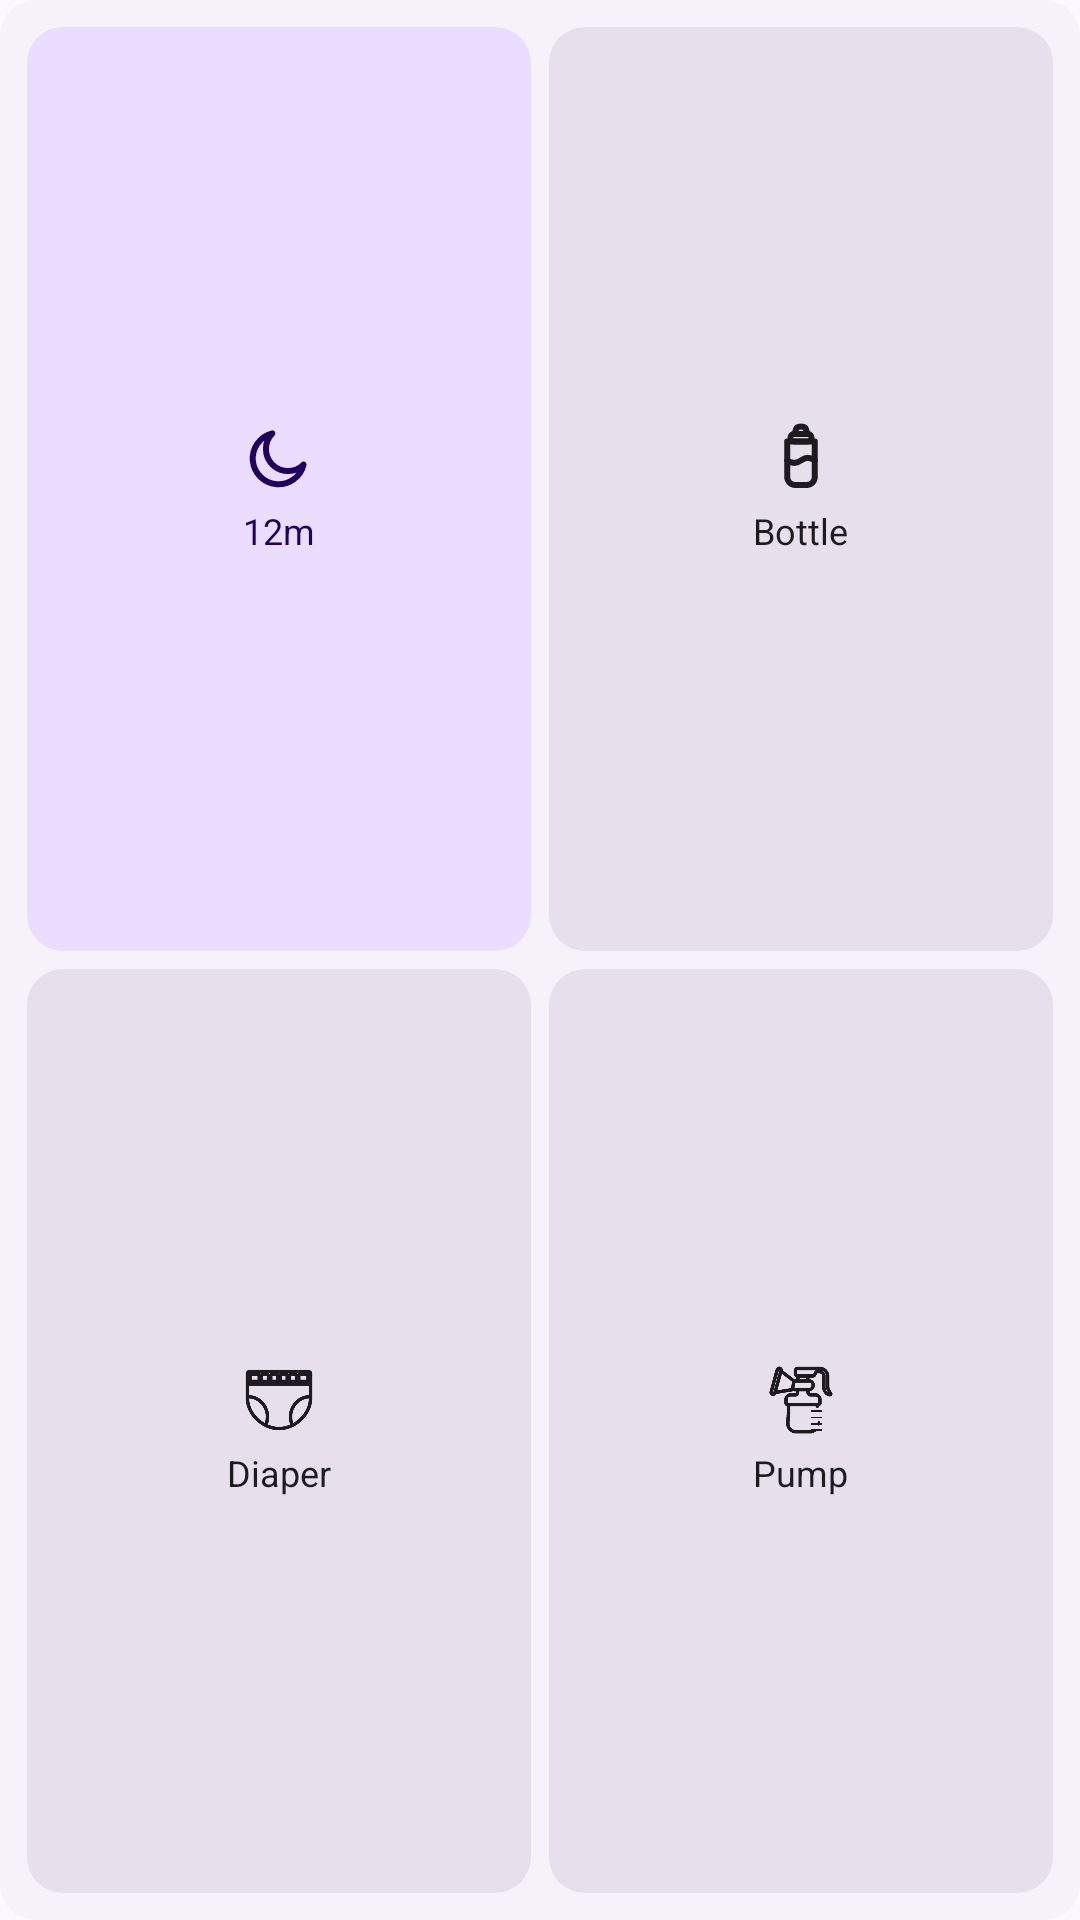

Point at icon controls on the screen. Image size 1080x1920, points as (x=x, y=y).
feeding: (x=801, y=455)
sleep: (x=278, y=459)
